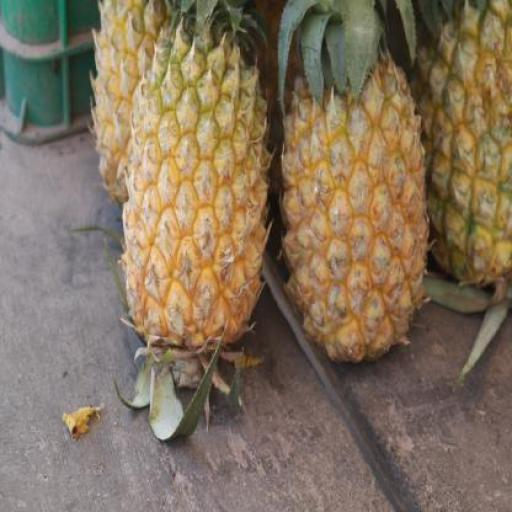------------------------------: (420, 0, 510, 278)
Pineapple - v8 v1: (122, 34, 267, 357), (276, 60, 426, 361), (95, 0, 192, 203)
